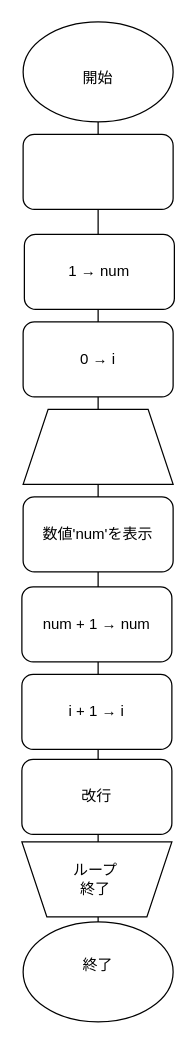
Some shapes in this 196 by 1044 pixel diagram are drawn without their labels. Here are the shapes that lost their labels. From the top down, the box of each, then its label:
(22, 133, 173, 209): 7 → count
(22, 408, 173, 484): ループ開始 i >= count
